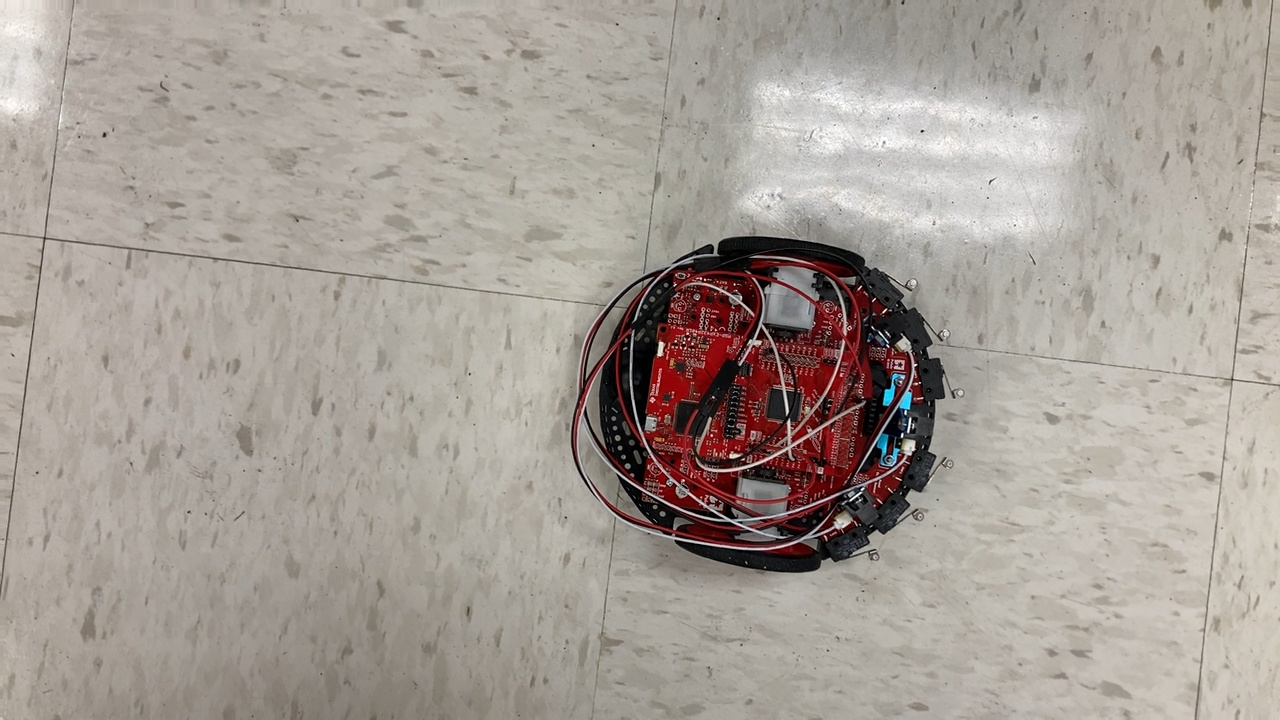robot: (560, 232, 972, 582)
